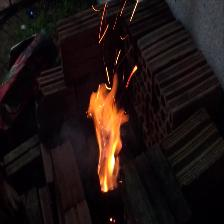fire: (86, 79, 127, 185)
